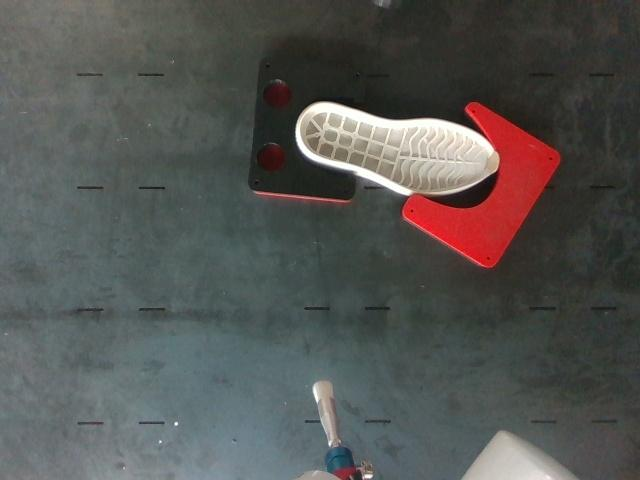shoes: (299, 104, 499, 194)
